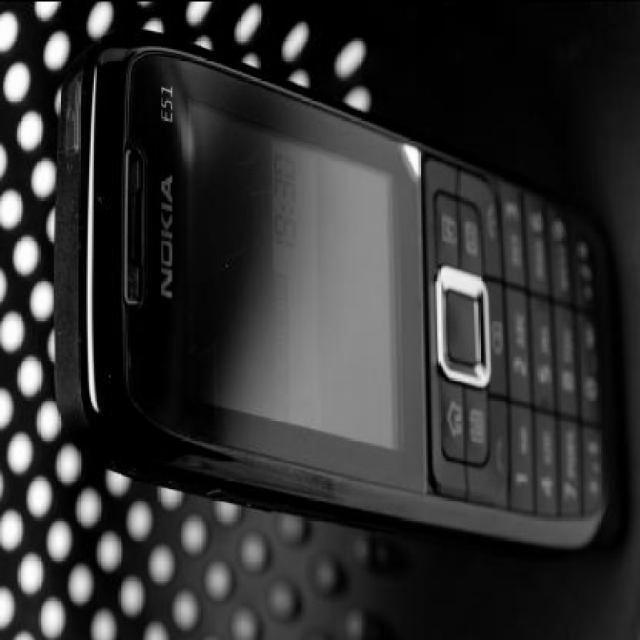fake: (76, 52, 624, 557)
